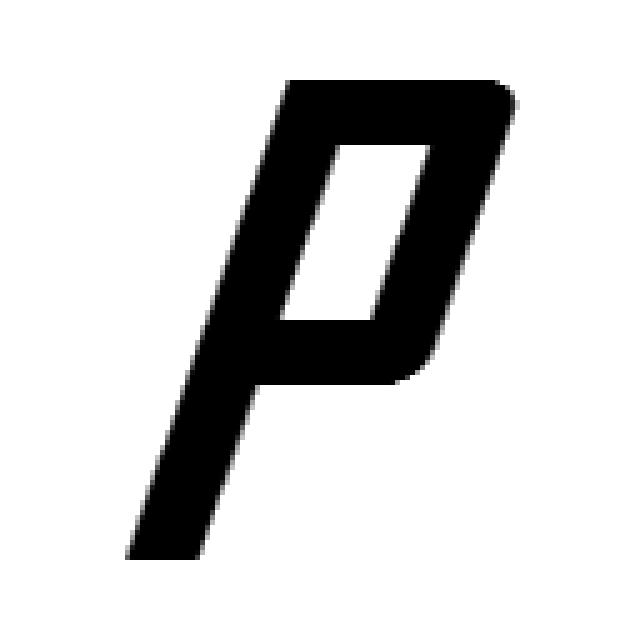P: (125, 80, 515, 565)
